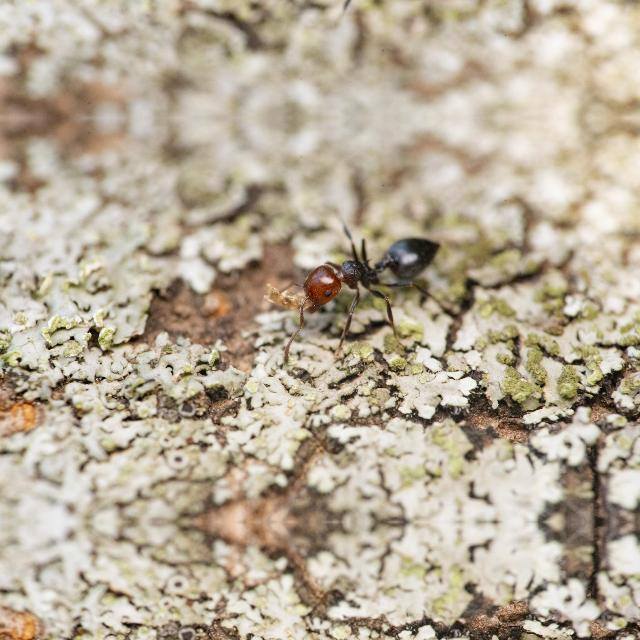Crematogaster: (290, 240, 450, 316)
